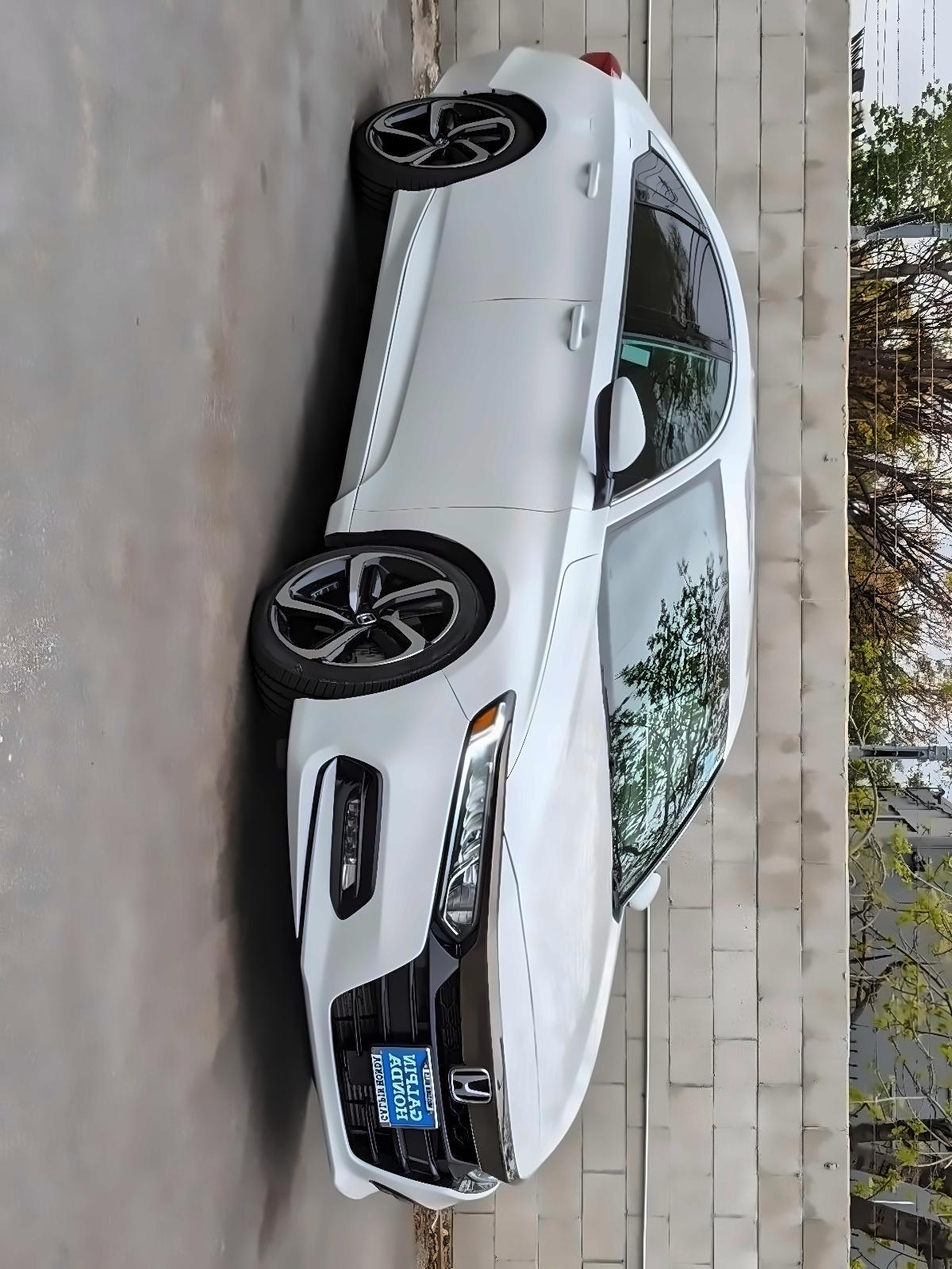Car hood: (494, 547, 642, 1191)
Driver-s door - -F-R-: (318, 280, 754, 518)
Fender - -F-R-: (337, 496, 642, 720)
Fender - -R-R-: (482, 68, 677, 176)
Front bumper: (268, 688, 386, 1201)
Headlight - -R-: (439, 688, 523, 960)
Passenger-s door - -R-R-: (375, 147, 760, 356)
Rear bumper: (417, 36, 534, 105)
Rear light - -R-: (581, 42, 627, 84)
Side bumper - -R-: (318, 175, 426, 553)
Side mirror - -L-: (621, 865, 668, 921)
Side mirror - -R-: (581, 377, 657, 488)
